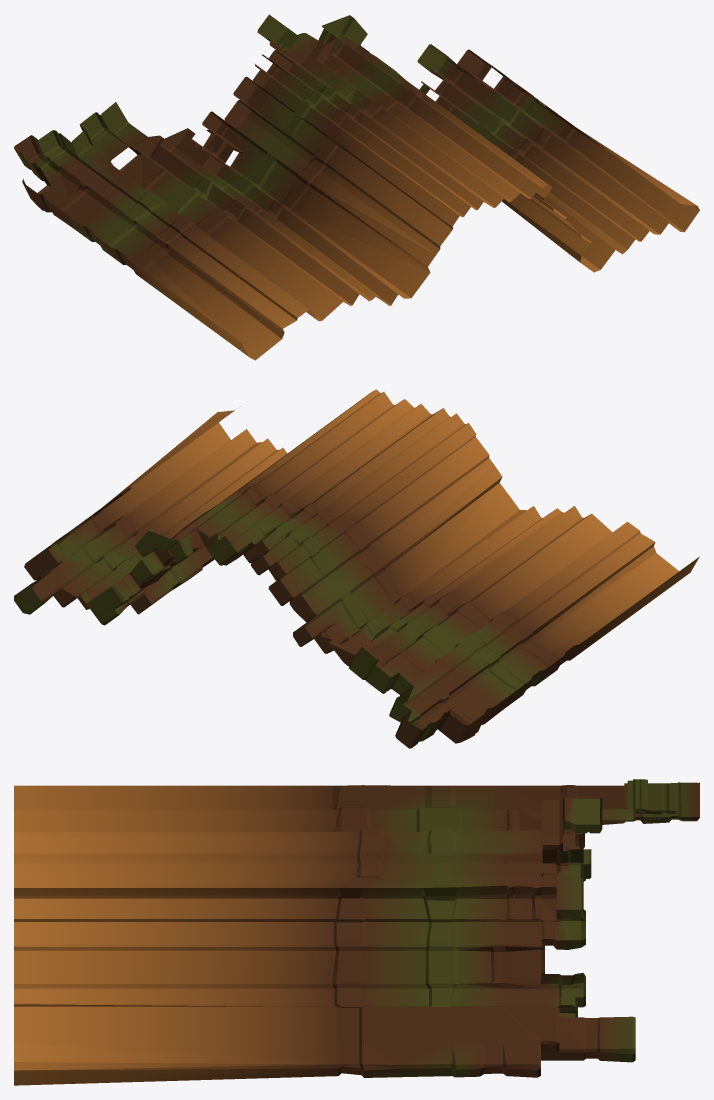
File: dammyA.fbx
3 renders of one model, top to bottom at view 1: azimuth 30°, elevation 25°; view 2: azimuth 150°, elevation 25°; view 3: azimuth 270°, elevation 25°, orthographic. The views are drawn at different scales.
Parts seen in each view (by area): view 1: w5a02_s99_dammyA_001; view 2: w5a02_s99_dammyA_001; view 3: w5a02_s99_dammyA_001.
Boxes of the visible parts, x1=… form: w5a02_s99_dammyA_001: x1=14, y1=14, x2=699, y2=360; w5a02_s99_dammyA_001: x1=14, y1=389, x2=699, y2=748; w5a02_s99_dammyA_001: x1=14, y1=779, x2=699, y2=1085.
Bounding box in the file's own units: 151 × 140 × 43.39.
